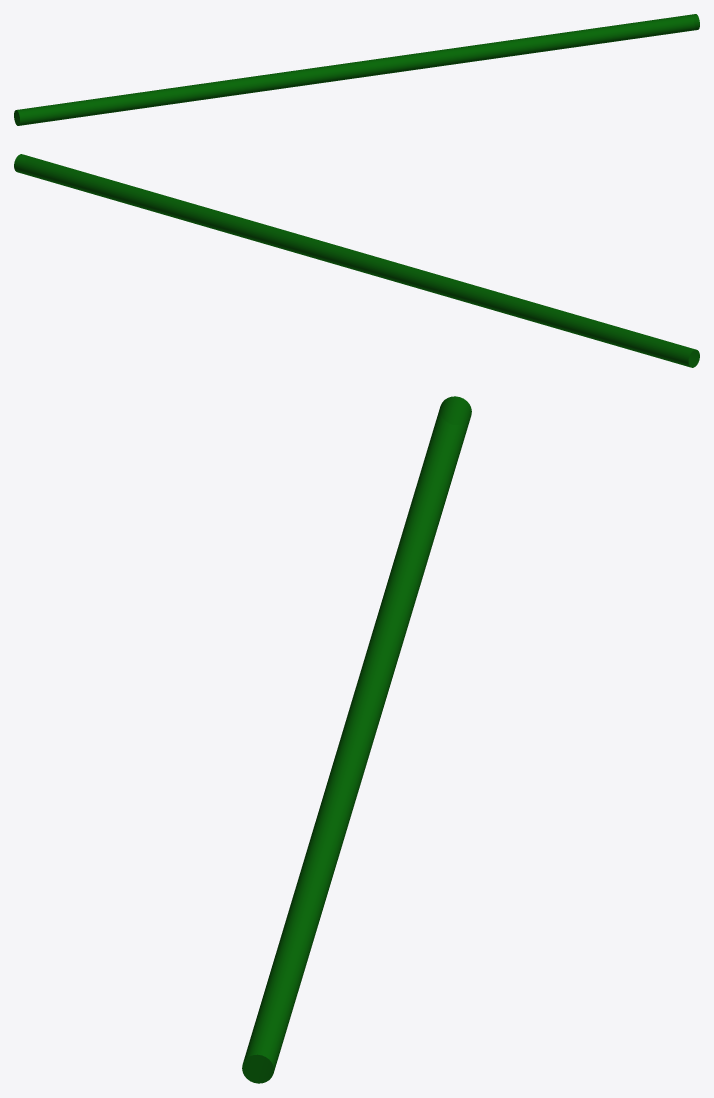
File: Event_421556567_jet_2.fbx
3 renders of one model, top to bottom at view 1: azimuth 30°, elevation 25°; view 2: azimuth 150°, elevation 25°; view 3: azimuth 270°, elevation 25°, orthographic. The views are drawn at different scales.
Visible parts, largest first — view 1: Model; view 2: Model; view 3: Model.
Boxes of the visible parts, bbox=[...] form: Model: bbox=[14, 14, 699, 125]; Model: bbox=[14, 154, 699, 367]; Model: bbox=[242, 396, 471, 1083].
Bounding box in the file's own units: 1.81 × 0.0988 × 0.2845.
